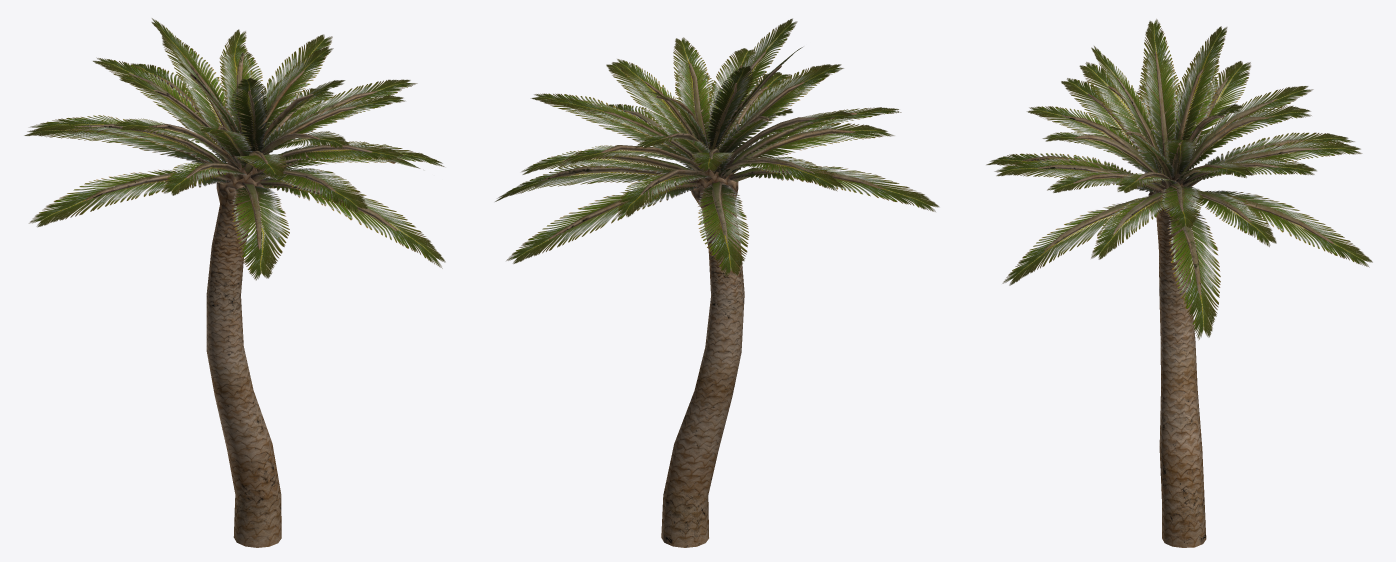
Rendered from palm-tree.glb.
3 views of the same model, side by side, from view 1: azimuth 30°, elevation 25°; view 2: azimuth 150°, elevation 25°; view 3: azimuth 270°, elevation 25° (orthographic). The views are drawn at different scales.
Visible parts, largest first — view 1: palmtree; view 2: palmtree; view 3: palmtree.
Part boxes in pixels (x1,y1,x2,y2): palmtree: (24, 18, 445, 547); palmtree: (495, 18, 939, 547); palmtree: (986, 19, 1372, 547).
Size of the model in its own units: 2.88 by 3.23 by 2.47.
1 material, 1 textured.
